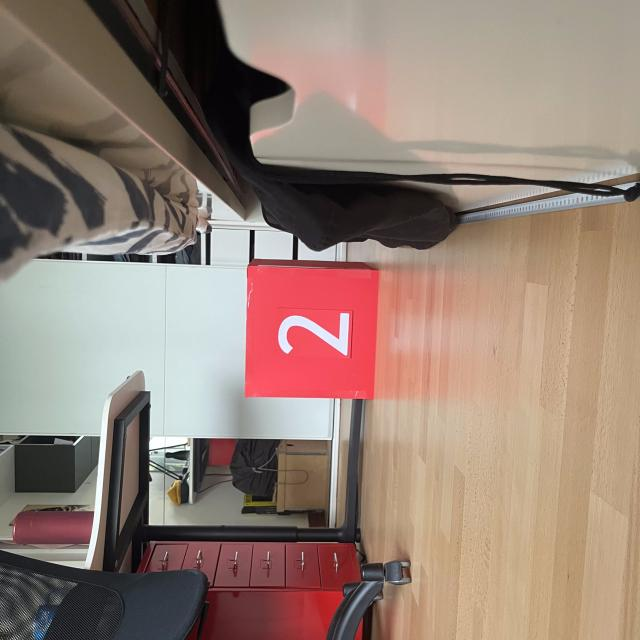box: (241, 254, 383, 402)
